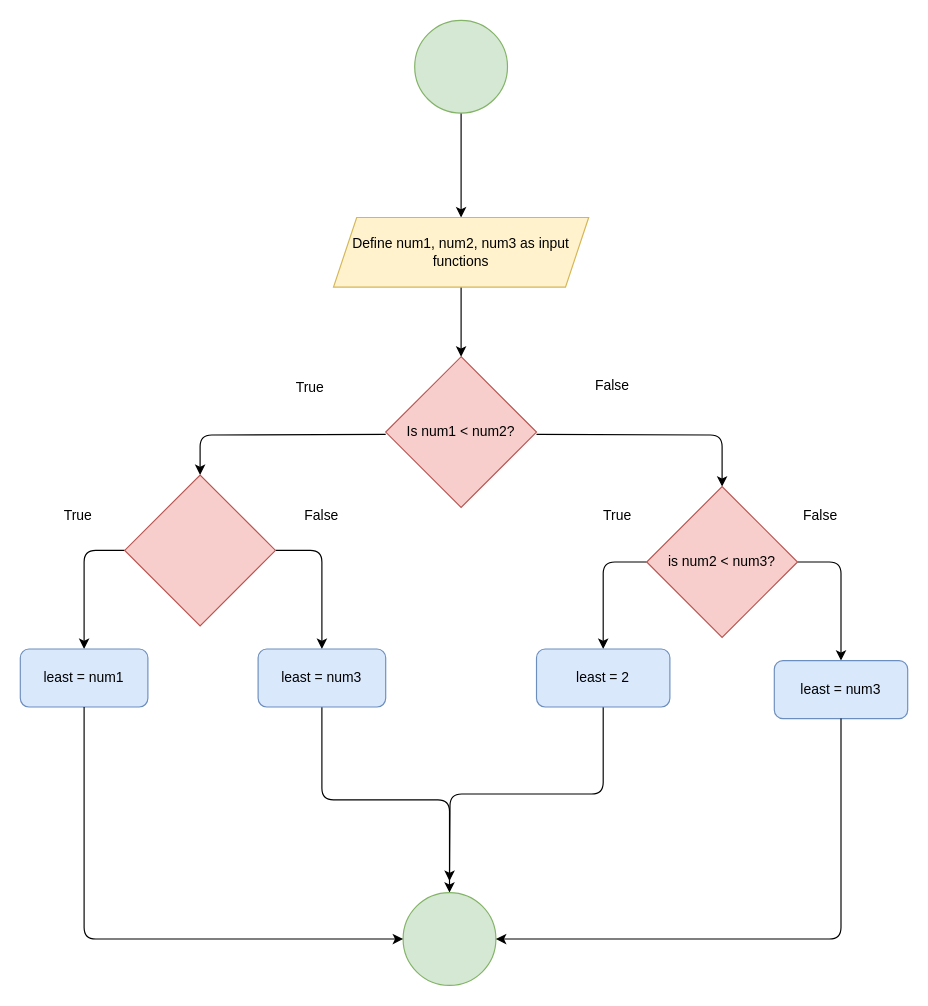
Some shapes in this 928 by 1006 pixel diagram are drawn without their labels. The centre of each missing label's shape, as x and y in pixels:
END: the point at 449,938
Is num1 < num3?: the point at 200,550
START: the point at 460,66
